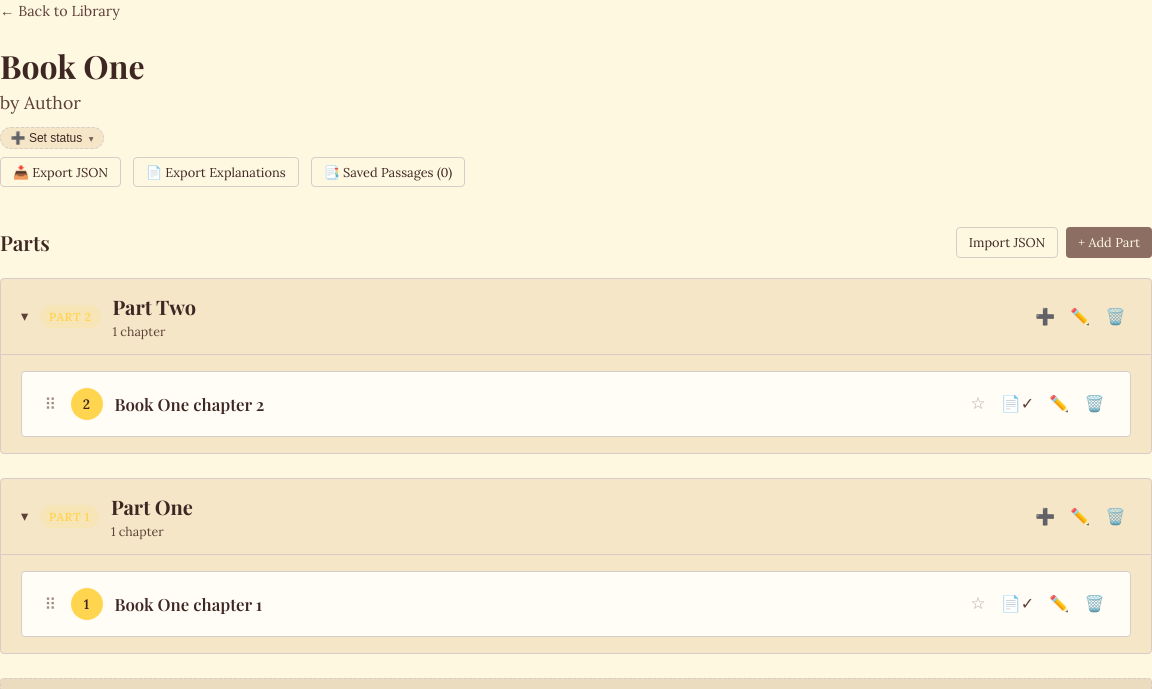
it: parts › lists parts in the stored order with ungrouped chapters last, and collapses a part
Expected: the heading "Parts" is shown, x1=0 y1=228 x2=50 y2=256
Expected: the text "Part 2" is shown, x1=40 y1=304 x2=100 y2=328
What coordinates should you click on to do the following:
click the button "▾ Part 2 Part Two 1 chapter"
I would click on:
 (70, 316)
Its box is x1=21 y1=293 x2=1018 y2=339.
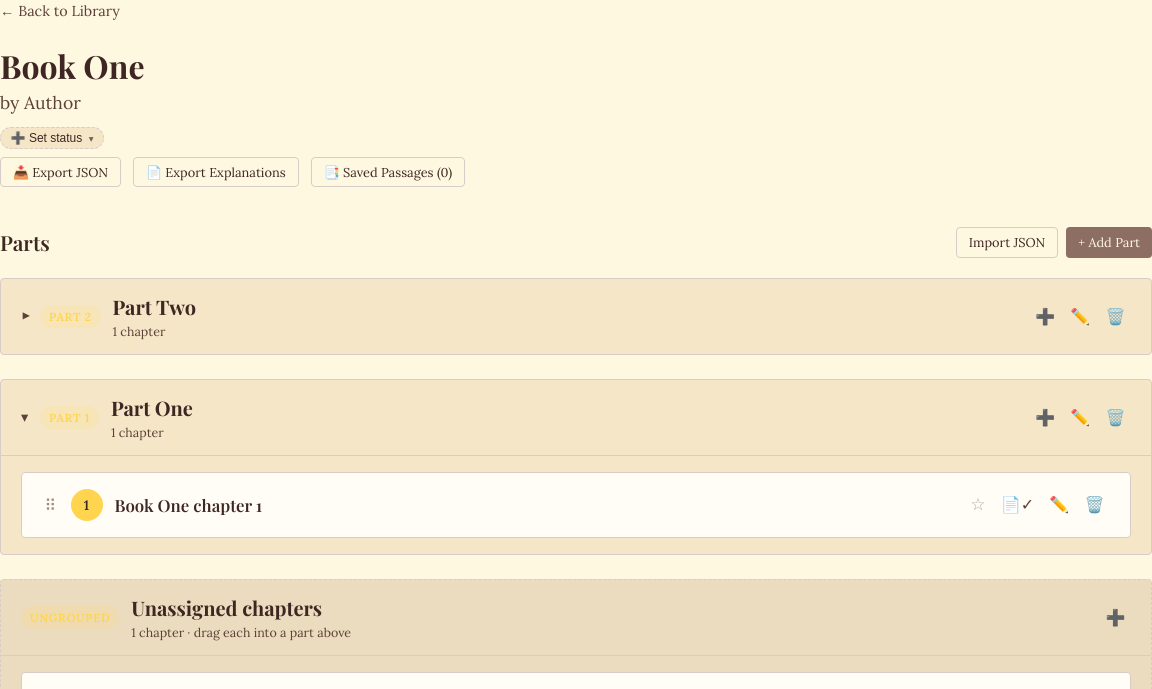
Expected: the text "Book One chapter 1" is shown, x1=114 y1=494 x2=262 y2=516
Now the text "Book One chapter 2" is gone
